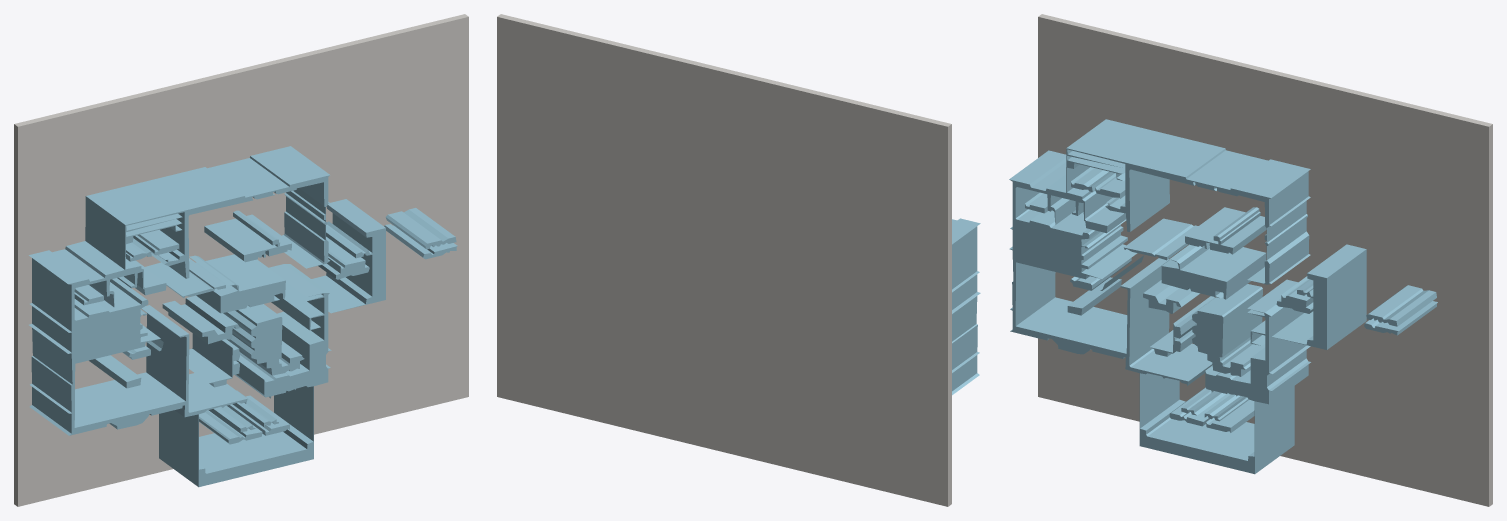
3 views of the same model, side by side, from view 1: azimuth 30°, elevation 25°; view 2: azimuth 150°, elevation 25°; view 3: azimuth 330°, elevation 25° (orthographic).
Visible parts, largest first — view 1: world; view 2: world; view 3: world.
Boxes of the visible parts, box(x1,y1,x2,y2) form: world: box(14, 14, 468, 506); world: box(497, 14, 980, 506); world: box(1009, 14, 1492, 506).
Size of the model in its own units: 10.23 by 8.24 by 1.71.
